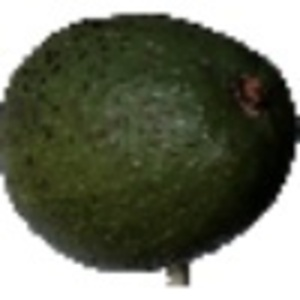abacate: (1, 11, 299, 272)
